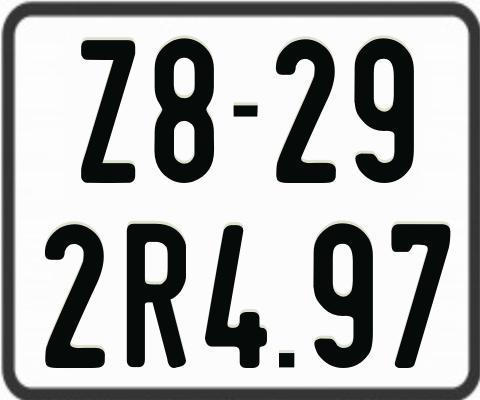2: (276, 38, 342, 186), (44, 221, 109, 365)
4: (203, 225, 267, 370)
7: (388, 222, 453, 372)
8: (151, 36, 215, 183)
9: (352, 37, 416, 185), (310, 222, 372, 370)
R: (126, 222, 189, 367)
Z: (78, 38, 132, 187)
